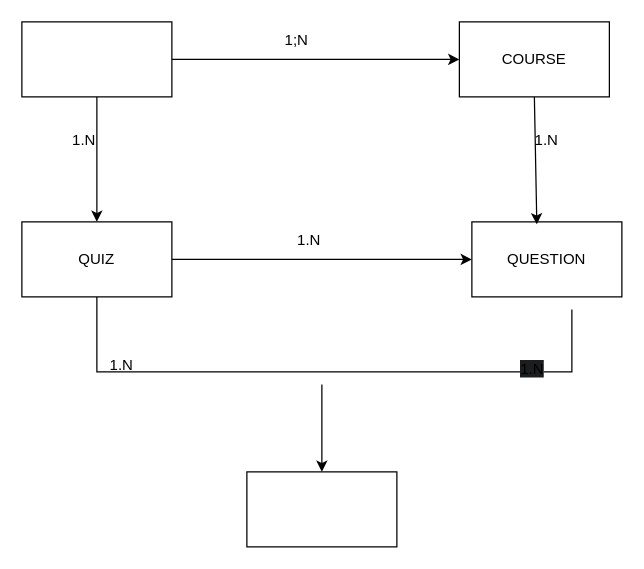
This 644x569 diagram has some shape labels left out. The shapes that lost their labels are listed below. From the top down, each one's box as (x1, y1, x2, y2) in pixels, then its label:
(21, 21, 172, 97): USER
(246, 471, 397, 547): ANSWER
